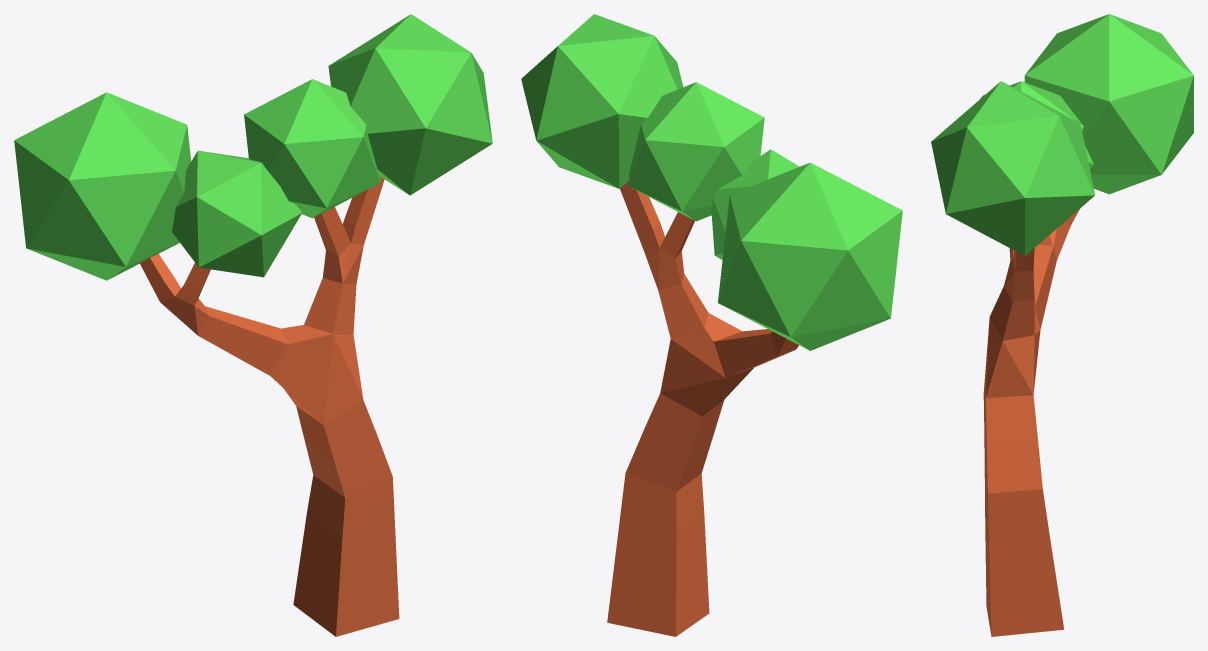
The model's file is Arbre (1).glb.
3 renders of one model, left to right at view 1: azimuth 30°, elevation 25°; view 2: azimuth 150°, elevation 25°; view 3: azimuth 270°, elevation 25°, orthographic. The views are drawn at different scales.
Visible parts, largest first — view 1: Cube, Icosphere.001, Icosphere.003, Icosphere.002, Icosphere.004; view 2: Cube, Icosphere.001, Icosphere.003, Icosphere.002, Icosphere.004; view 3: Cube, Icosphere.001, Icosphere.003, Icosphere.002.
Part boxes in pixels (box(x1,y1,x2,y2)): Cube: box(140, 176, 399, 636); Icosphere.001: box(14, 92, 191, 280); Icosphere.003: box(328, 14, 492, 195); Icosphere.002: box(244, 79, 380, 218); Icosphere.004: box(172, 150, 302, 277); Cube: box(607, 181, 798, 636); Icosphere.001: box(718, 162, 902, 350); Icosphere.003: box(521, 14, 683, 188); Icosphere.002: box(628, 82, 764, 221); Icosphere.004: box(711, 149, 799, 259); Cube: box(983, 209, 1079, 636); Icosphere.001: box(1024, 14, 1193, 194); Icosphere.003: box(931, 81, 1095, 255); Icosphere.002: box(980, 81, 1083, 139).
Size of what is drawn, in the model's own units: 5.14 by 6.79 by 2.96.
